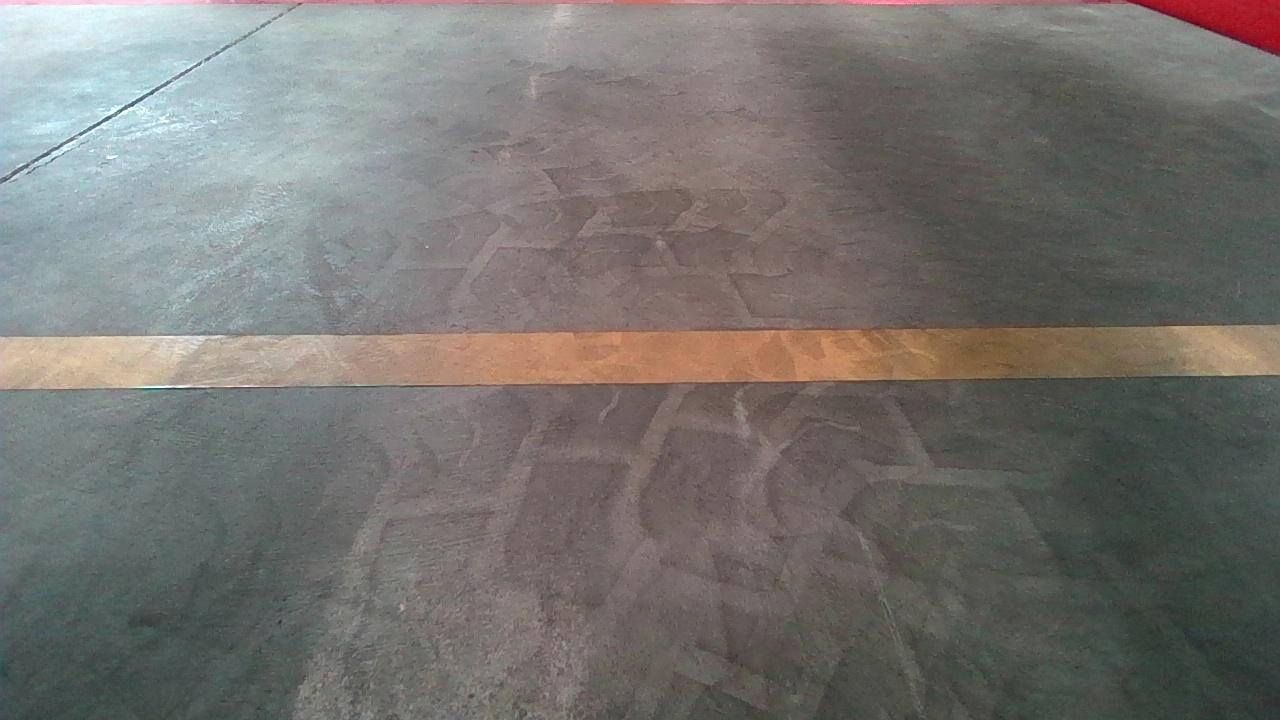yellow_line: (0, 320, 1265, 390)
